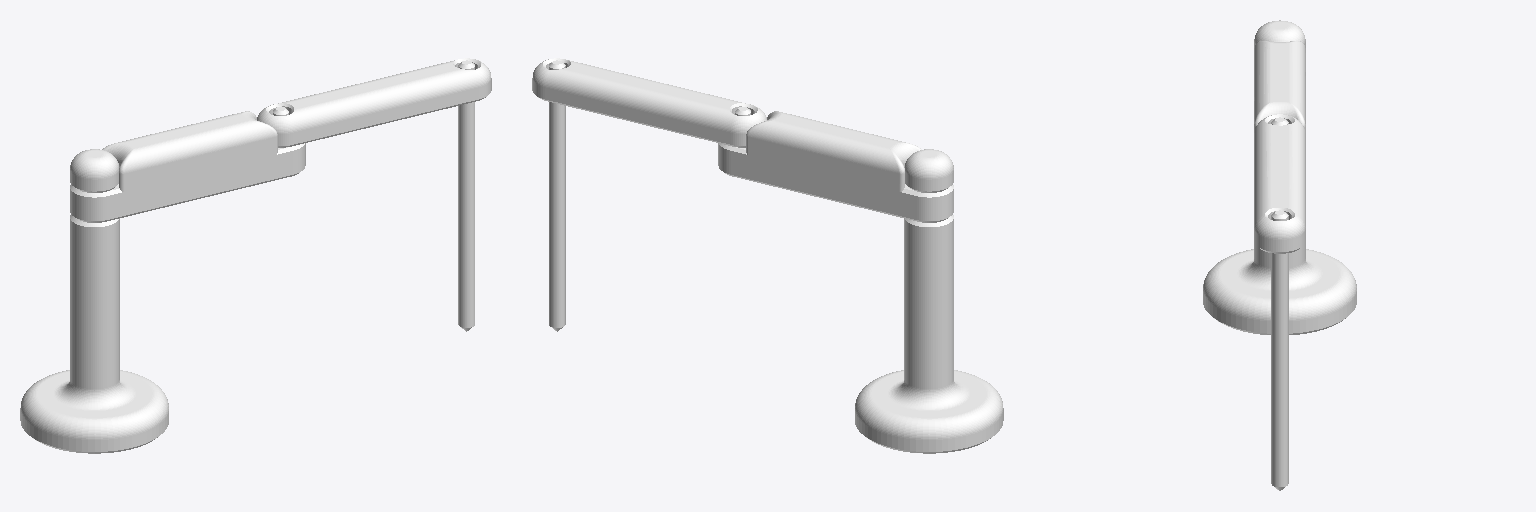
robot.urdf — scara:
<?xml version="1.0" ?>
<!-- Generated using onshape-to-robot -->
<!-- Onshape https://cad.onshape.com/documents/538cbb797ec2882aad06761a/w/d99b40142a9e4b5a7e4a8408/e/db9cba3c828b57786e6d6ec4 -->
<robot name="scara">
    <!-- Link base -->
    <link name="base">
        <inertial>
            <origin xyz="0 0 0" rpy="0 0 0"/>
            <mass value="0"/>
            <inertia ixx="0" ixy="0" ixz="0" iyy="0" iyz="0" izz="0"/>
        </inertial>
        <!-- Part base -->
        <visual>
            <origin xyz="3.49943e-18 0 0" rpy="0 6.12323e-17 1.5708"/>
            <geometry>
                <mesh filename="package://scara_sim/meshes/base.stl"/>
            </geometry>
            <material name="base_material">
                <color rgba="1 1 1 1.0"/>
            </material>
        </visual>
        <collision>
            <origin xyz="3.49943e-18 0 0" rpy="0 6.12323e-17 1.5708"/>
            <geometry>
                <mesh filename="package://scara_sim/meshes/base.stl"/>
            </geometry>
        </collision>
    </link>
    <!-- Link link1 -->
    <link name="link1">
        <inertial>
            <origin xyz="0.0852855 -1.75451e-17 0.00981877" rpy="0 0 0"/>
            <mass value="0.810959"/>
            <inertia ixx="0.000250329" ixy="-1.71425e-09" ixz="4.05197e-06" iyy="0.0021349" iyz="-6.90014e-58" izz="0.00207147"/>
        </inertial>
        <!-- Part link1 -->
        <visual>
            <origin xyz="0.0852855 -1.73472e-17 0.00981877" rpy="0 -3.42114e-49 -2.55547e-53"/>
            <geometry>
                <mesh filename="package://scara_sim/meshes/link1.stl"/>
            </geometry>
            <material name="link1_material">
                <color rgba="1 1 1 1.0"/>
            </material>
        </visual>
        <collision>
            <origin xyz="0.0852855 -1.73472e-17 0.00981877" rpy="0 -3.42114e-49 -2.55547e-53"/>
            <geometry>
                <mesh filename="package://scara_sim/meshes/link1.stl"/>
            </geometry>
        </collision>
    </link>
    <!-- Link link2 -->
    <link name="link2">
        <inertial>
            <origin xyz="0.08255 3.83367e-17 0.00935103" rpy="0 0 0"/>
            <mass value="0.429371"/>
            <inertia ixx="6.81335e-05" ixy="-1.82839e-10" ixz="0" iyy="0.00123028" iyz="0" izz="0.00125769"/>
        </inertial>
        <!-- Part link2 -->
        <visual>
            <origin xyz="0.08255 1.73472e-17 0.00935103" rpy="3.14159 -0 -7.41508e-53"/>
            <geometry>
                <mesh filename="package://scara_sim/meshes/link2.stl"/>
            </geometry>
            <material name="link2_material">
                <color rgba="1 1 1 1.0"/>
            </material>
        </visual>
        <collision>
            <origin xyz="0.08255 1.73472e-17 0.00935103" rpy="3.14159 -0 -7.41508e-53"/>
            <geometry>
                <mesh filename="package://scara_sim/meshes/link2.stl"/>
            </geometry>
        </collision>
    </link>
    <!-- Link link3 -->
    <link name="link3">
        <inertial>
            <origin xyz="-1.33152e-19 2.74445e-33 -0.110087" rpy="0 0 0"/>
            <mass value="0.0764384"/>
            <inertia ixx="0.000319031" ixy="0" ixz="0" iyy="0.000319031" iyz="0" izz="1.53189e-06"/>
        </inertial>
        <!-- Part link3 -->
        <visual>
            <origin xyz="0 -3.88825e-19 -0.110087" rpy="0 -0 0"/>
            <geometry>
                <mesh filename="package://scara_sim/meshes/link3.stl"/>
            </geometry>
            <material name="link3_material">
                <color rgba="1 1 1 1.0"/>
            </material>
        </visual>
        <collision>
            <origin xyz="0 -3.88825e-19 -0.110087" rpy="0 -0 0"/>
            <geometry>
                <mesh filename="package://scara_sim/meshes/link3.stl"/>
            </geometry>
        </collision>
    </link>
    <!-- Joint from link2 to link3 -->
    <joint name="joint3" type="prismatic">
        <origin xyz="0.1651 5.89806e-17 0.0210455" rpy="-3.69779e-32 -5.472e-33 1.3329e-36"/>
        <parent link="link2"/>
        <child link="link3"/>
        <axis xyz="0 0 1"/>
        <limit effort="50" velocity="50" lower="-0" upper="0.2159"/>
        <joint_properties friction="0.0"/>
    </joint>
    <!-- Joint from link1 to link2 -->
    <joint name="joint2" type="revolute">
        <origin xyz="0.1651 -5.89806e-17 0.01524" rpy="-1.47911e-31 -4.46816e-32 -1.3129e-48"/>
        <parent link="link1"/>
        <child link="link2"/>
        <axis xyz="0 0 1"/>
        <limit effort="50" velocity="50" lower="-3" upper="3"/>
        <joint_properties friction="0.0"/>
    </joint>
    <!-- Joint from base to link1 -->
    <joint name="joint1" type="continuous">
        <origin xyz="-1.38778e-17 1.16648e-17 0.1905" rpy="-6.12323e-17 -2.31112e-33 -1.3329e-36"/>
        <parent link="base"/>
        <child link="link1"/>
        <axis xyz="0 0 1"/>
        <limit effort="50" velocity="50" lower="0" upper="0"/>
        <joint_properties friction="0.0"/>
    </joint>
</robot>

--- What the picture shows (computed from the rendered views, not written in the file) ---
3 views of the same robot in one strip: view 1: azimuth 30°, elevation 25°; view 2: azimuth 150°, elevation 25°; view 3: azimuth 270°, elevation 25° (orthographic).
Model scara with 4 links and 3 joints (1 revolute, 1 continuous, 1 prismatic), rooted at base, posed all joints at 0.
Visible links, largest first — view 1: base, link1, link2, link3; view 2: base, link1, link2, link3; view 3: base, link2, link3, link1.
Link boxes in pixels (x1,y1,x2,y2): base: (20, 149, 168, 453); link1: (70, 107, 305, 222); link2: (257, 58, 491, 147); link3: (458, 60, 474, 331); base: (855, 149, 1003, 453); link1: (718, 107, 953, 222); link2: (532, 58, 766, 147); link3: (549, 60, 565, 331); base: (1203, 20, 1356, 334); link2: (1254, 114, 1305, 253); link3: (1271, 210, 1288, 490); link1: (1254, 41, 1305, 132).
Size in the robot's own frame: 0.4064 by 0.1143 by 0.2293 metres.
Meshes: 4 distinct files referenced, 4 mesh visuals loaded (4 binary STL).